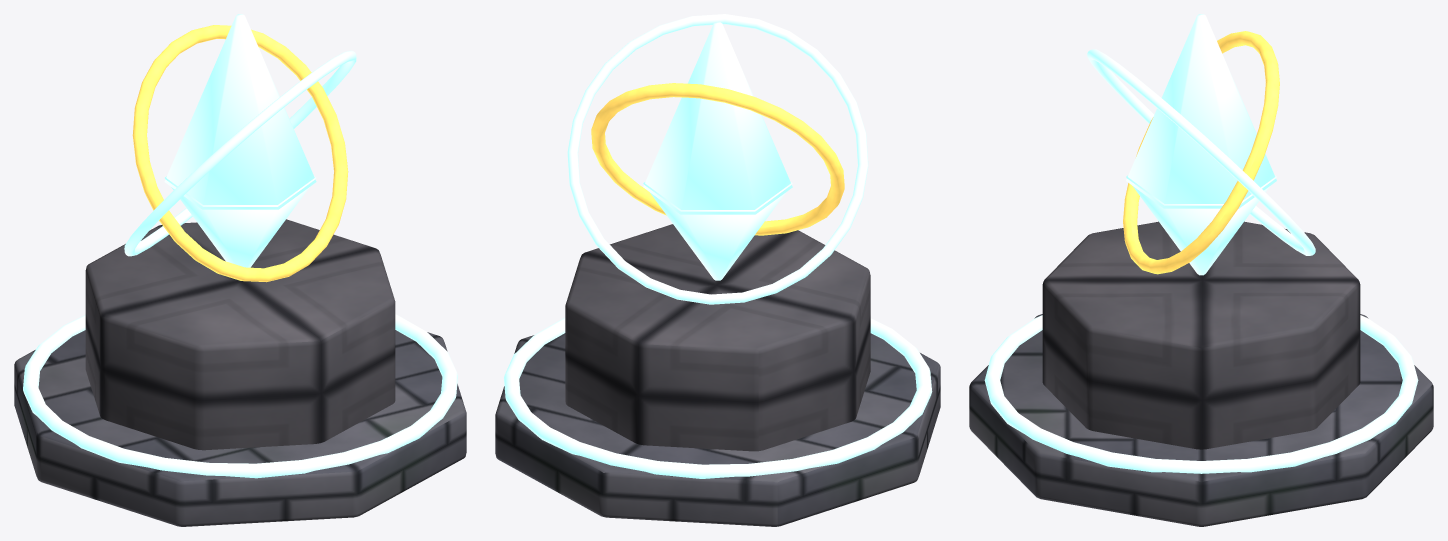
Rendered from safe_beacon.glb.
The picture shows the model from 3 angles, left to right: view 1: azimuth 30°, elevation 25°; view 2: azimuth 150°, elevation 25°; view 3: azimuth 270°, elevation 25°; orthographic projection.
Parts seen in each view (by area): view 1: AltarMid, StepBase, CrystalTop, FloorRuneRing, OrbitBronze1, OrbitBronze2, CrystalBot; view 2: AltarMid, StepBase, CrystalTop, OrbitBronze2, FloorRuneRing, OrbitBronze1, CrystalBot; view 3: AltarMid, StepBase, CrystalTop, FloorRuneRing, OrbitBronze1, OrbitBronze2, CrystalBot.
Part boxes in pixels (x1=…): AltarMid: x1=85, y1=219, x2=395, y2=450; StepBase: x1=14, y1=330, x2=466, y2=526; CrystalTop: x1=164, y1=14, x2=316, y2=209; FloorRuneRing: x1=23, y1=314, x2=457, y2=478; OrbitBronze1: x1=132, y1=25, x2=348, y2=282; OrbitBronze2: x1=124, y1=50, x2=356, y2=256; CrystalBot: x1=165, y1=176, x2=315, y2=267; AltarMid: x1=565, y1=224, x2=870, y2=451; StepBase: x1=495, y1=333, x2=940, y2=526; CrystalTop: x1=643, y1=22, x2=792, y2=214; OrbitBronze2: x1=567, y1=14, x2=868, y2=304; FloorRuneRing: x1=503, y1=318, x2=932, y2=478; OrbitBronze1: x1=591, y1=83, x2=844, y2=235; CrystalBot: x1=643, y1=182, x2=792, y2=280; AltarMid: x1=1042, y1=221, x2=1360, y2=449; StepBase: x1=969, y1=314, x2=1433, y2=526; CrystalTop: x1=1126, y1=14, x2=1276, y2=208; FloorRuneRing: x1=984, y1=315, x2=1418, y2=473; OrbitBronze1: x1=1123, y1=31, x2=1279, y2=274; OrbitBronze2: x1=1087, y1=49, x2=1315, y2=255; CrystalBot: x1=1126, y1=175, x2=1276, y2=275.
Bounding box in the file's own units: 2.09 × 2.06 × 2.09.
4 materials, 3 textured.
